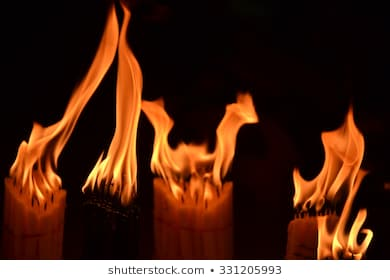Fire: (8, 12, 119, 201), (288, 107, 375, 258), (138, 95, 261, 192), (113, 7, 140, 204)
